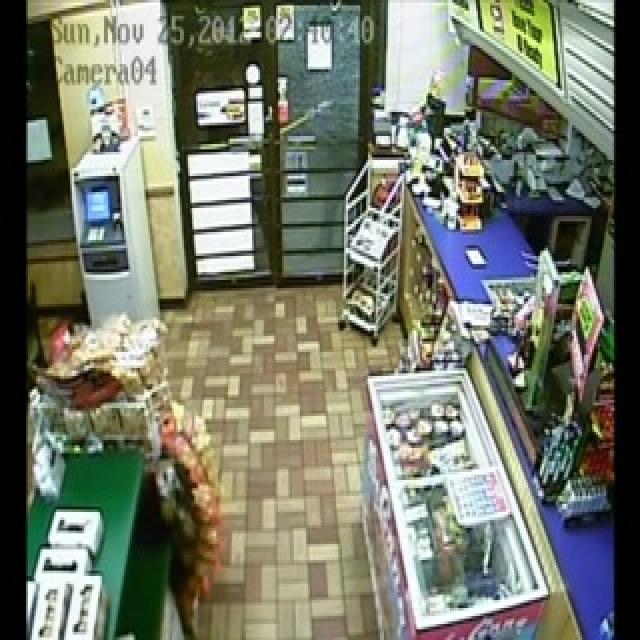burglary: (276, 3, 358, 274)
